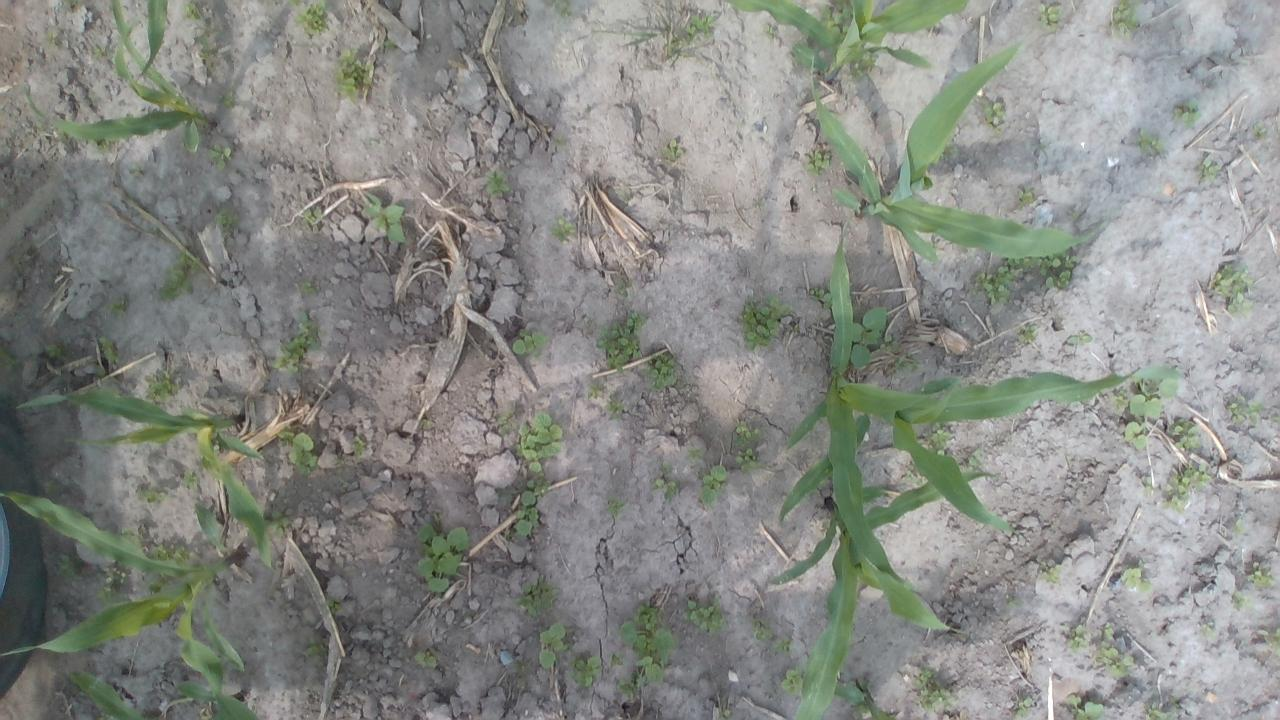Maize: (789, 224, 1186, 575), (801, 41, 1100, 260), (0, 485, 249, 720), (768, 467, 998, 720), (15, 387, 280, 571), (20, 0, 216, 156), (726, 0, 967, 88), (65, 664, 259, 720), (826, 677, 896, 720), (136, 0, 166, 75)
Weeds: (620, 602, 680, 687), (415, 513, 471, 595), (271, 310, 323, 374), (597, 312, 645, 376), (514, 414, 562, 474), (740, 295, 790, 350), (1162, 462, 1212, 516), (157, 249, 205, 302), (512, 475, 552, 538), (364, 190, 408, 245), (850, 305, 886, 370), (910, 664, 956, 714), (333, 47, 374, 103), (278, 428, 322, 478), (514, 574, 562, 614), (682, 596, 731, 634), (971, 266, 1015, 306), (1040, 246, 1079, 290), (1212, 262, 1258, 298), (537, 622, 570, 671), (286, 0, 328, 36), (1091, 645, 1133, 679), (96, 566, 132, 605), (818, 1, 854, 39), (646, 349, 679, 390), (142, 367, 180, 402), (510, 328, 550, 360), (702, 464, 731, 507), (1111, 0, 1142, 40), (147, 540, 194, 566), (1168, 416, 1202, 450), (1228, 399, 1266, 429), (568, 655, 602, 688), (1066, 692, 1105, 720), (926, 418, 954, 456), (682, 14, 716, 43), (1128, 392, 1162, 420), (1120, 566, 1154, 594), (846, 52, 880, 80), (780, 661, 806, 697), (1172, 97, 1202, 127), (980, 96, 1006, 130), (1225, 288, 1254, 318), (803, 148, 834, 176), (733, 420, 766, 446), (262, 509, 290, 539), (1134, 126, 1164, 154), (484, 169, 512, 199), (96, 334, 122, 366), (208, 141, 234, 171), (1038, 2, 1064, 31), (1124, 420, 1148, 450), (1247, 562, 1274, 588), (734, 446, 760, 472), (213, 206, 240, 231), (146, 574, 176, 596), (1196, 152, 1218, 182), (660, 136, 685, 162), (808, 286, 832, 312), (750, 614, 774, 640), (551, 217, 578, 240), (1002, 253, 1038, 270), (1016, 320, 1040, 344), (1014, 186, 1039, 209), (1070, 623, 1090, 651), (59, 556, 82, 580), (1039, 562, 1064, 583), (308, 638, 331, 660), (178, 0, 202, 21), (1014, 693, 1034, 718), (653, 464, 672, 490), (1232, 590, 1254, 612), (966, 447, 986, 471), (141, 487, 168, 504), (1147, 703, 1174, 720), (94, 137, 118, 156), (414, 650, 439, 668), (614, 677, 637, 696), (182, 469, 201, 491), (300, 206, 322, 225), (881, 333, 900, 353), (664, 479, 682, 500), (895, 356, 922, 370), (1110, 387, 1128, 408), (44, 344, 66, 361), (118, 527, 138, 545), (300, 278, 320, 296), (1102, 622, 1118, 644), (496, 414, 512, 436), (0, 348, 17, 368), (1270, 626, 1280, 659), (197, 29, 208, 59), (1066, 334, 1093, 346), (854, 702, 872, 720), (352, 434, 366, 457), (216, 94, 238, 108), (325, 597, 342, 614), (110, 300, 126, 318), (776, 638, 794, 654), (608, 499, 624, 516), (687, 446, 704, 462), (1143, 475, 1154, 497), (608, 400, 624, 415), (587, 382, 600, 399), (383, 37, 399, 50), (1236, 516, 1246, 535), (94, 47, 106, 61), (899, 471, 914, 482), (611, 654, 624, 666), (550, 0, 562, 11), (764, 24, 776, 35), (334, 455, 344, 464)
